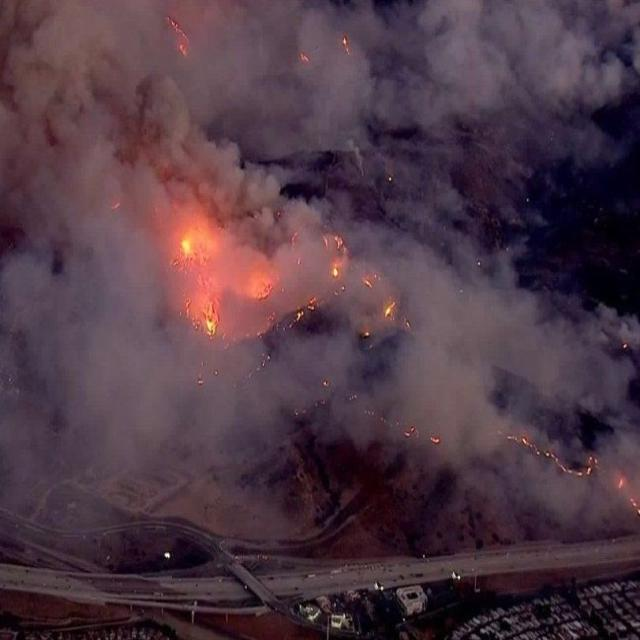Fire: (187, 296, 240, 351), (171, 221, 205, 269), (370, 290, 407, 326), (320, 257, 360, 287), (246, 274, 275, 299)
Smoke: (4, 0, 628, 526)
